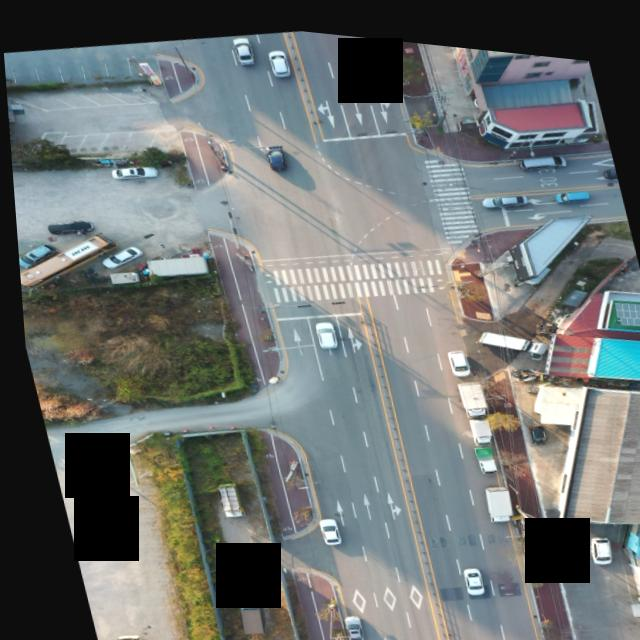car: (14, 239, 64, 271), (95, 238, 145, 267), (41, 211, 93, 238), (477, 178, 527, 202), (517, 139, 567, 162), (578, 519, 608, 554), (106, 157, 150, 178), (522, 408, 550, 436), (264, 42, 290, 72), (308, 311, 334, 341), (440, 336, 465, 366), (452, 553, 476, 584), (230, 28, 253, 59), (334, 605, 357, 636), (450, 561, 474, 590), (260, 136, 284, 164), (311, 510, 334, 539), (554, 173, 589, 192), (600, 155, 615, 166)
large_bus: (13, 221, 125, 298), (92, 626, 146, 640)
medium_truck: (469, 306, 549, 354), (226, 583, 265, 635), (471, 469, 510, 515), (449, 366, 487, 410)
small_truck: (206, 475, 239, 513), (464, 432, 494, 464), (461, 405, 488, 435)
